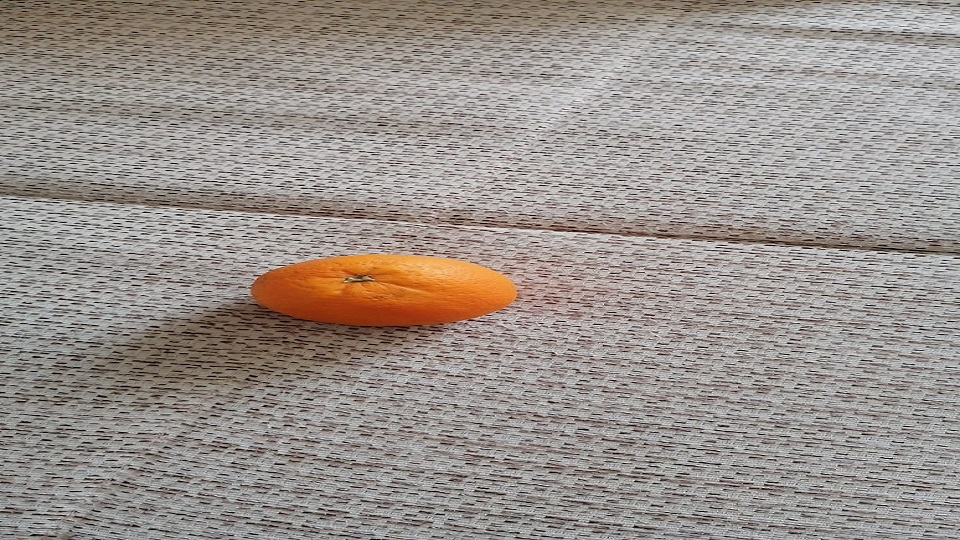portakal: (249, 252, 519, 327)
